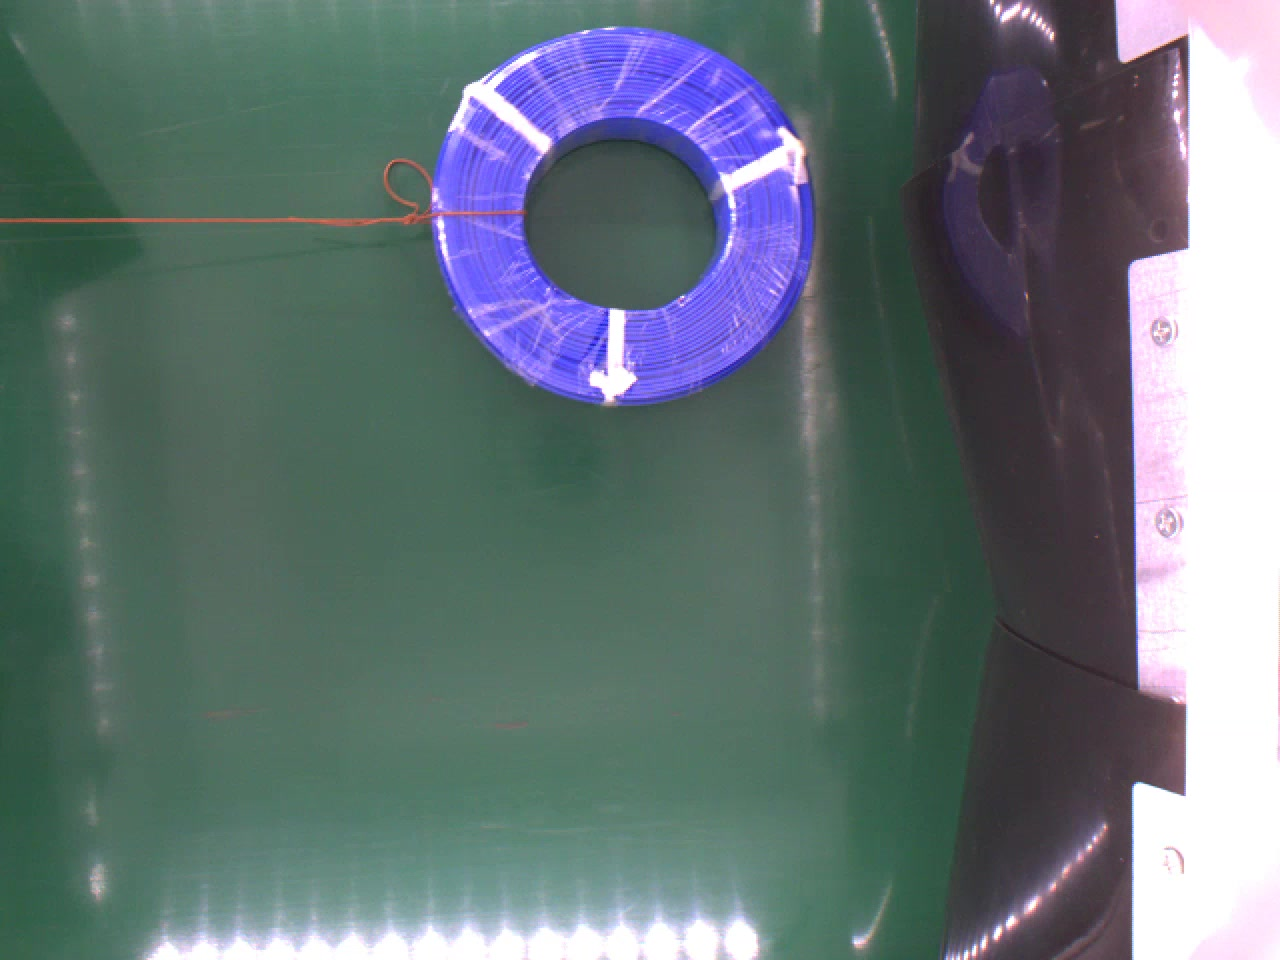blue: (432, 23, 818, 406)
